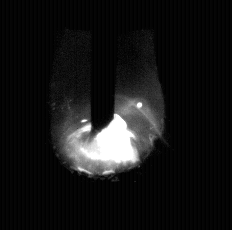arame: (92, 0, 115, 138)
poca: (52, 0, 165, 230)
